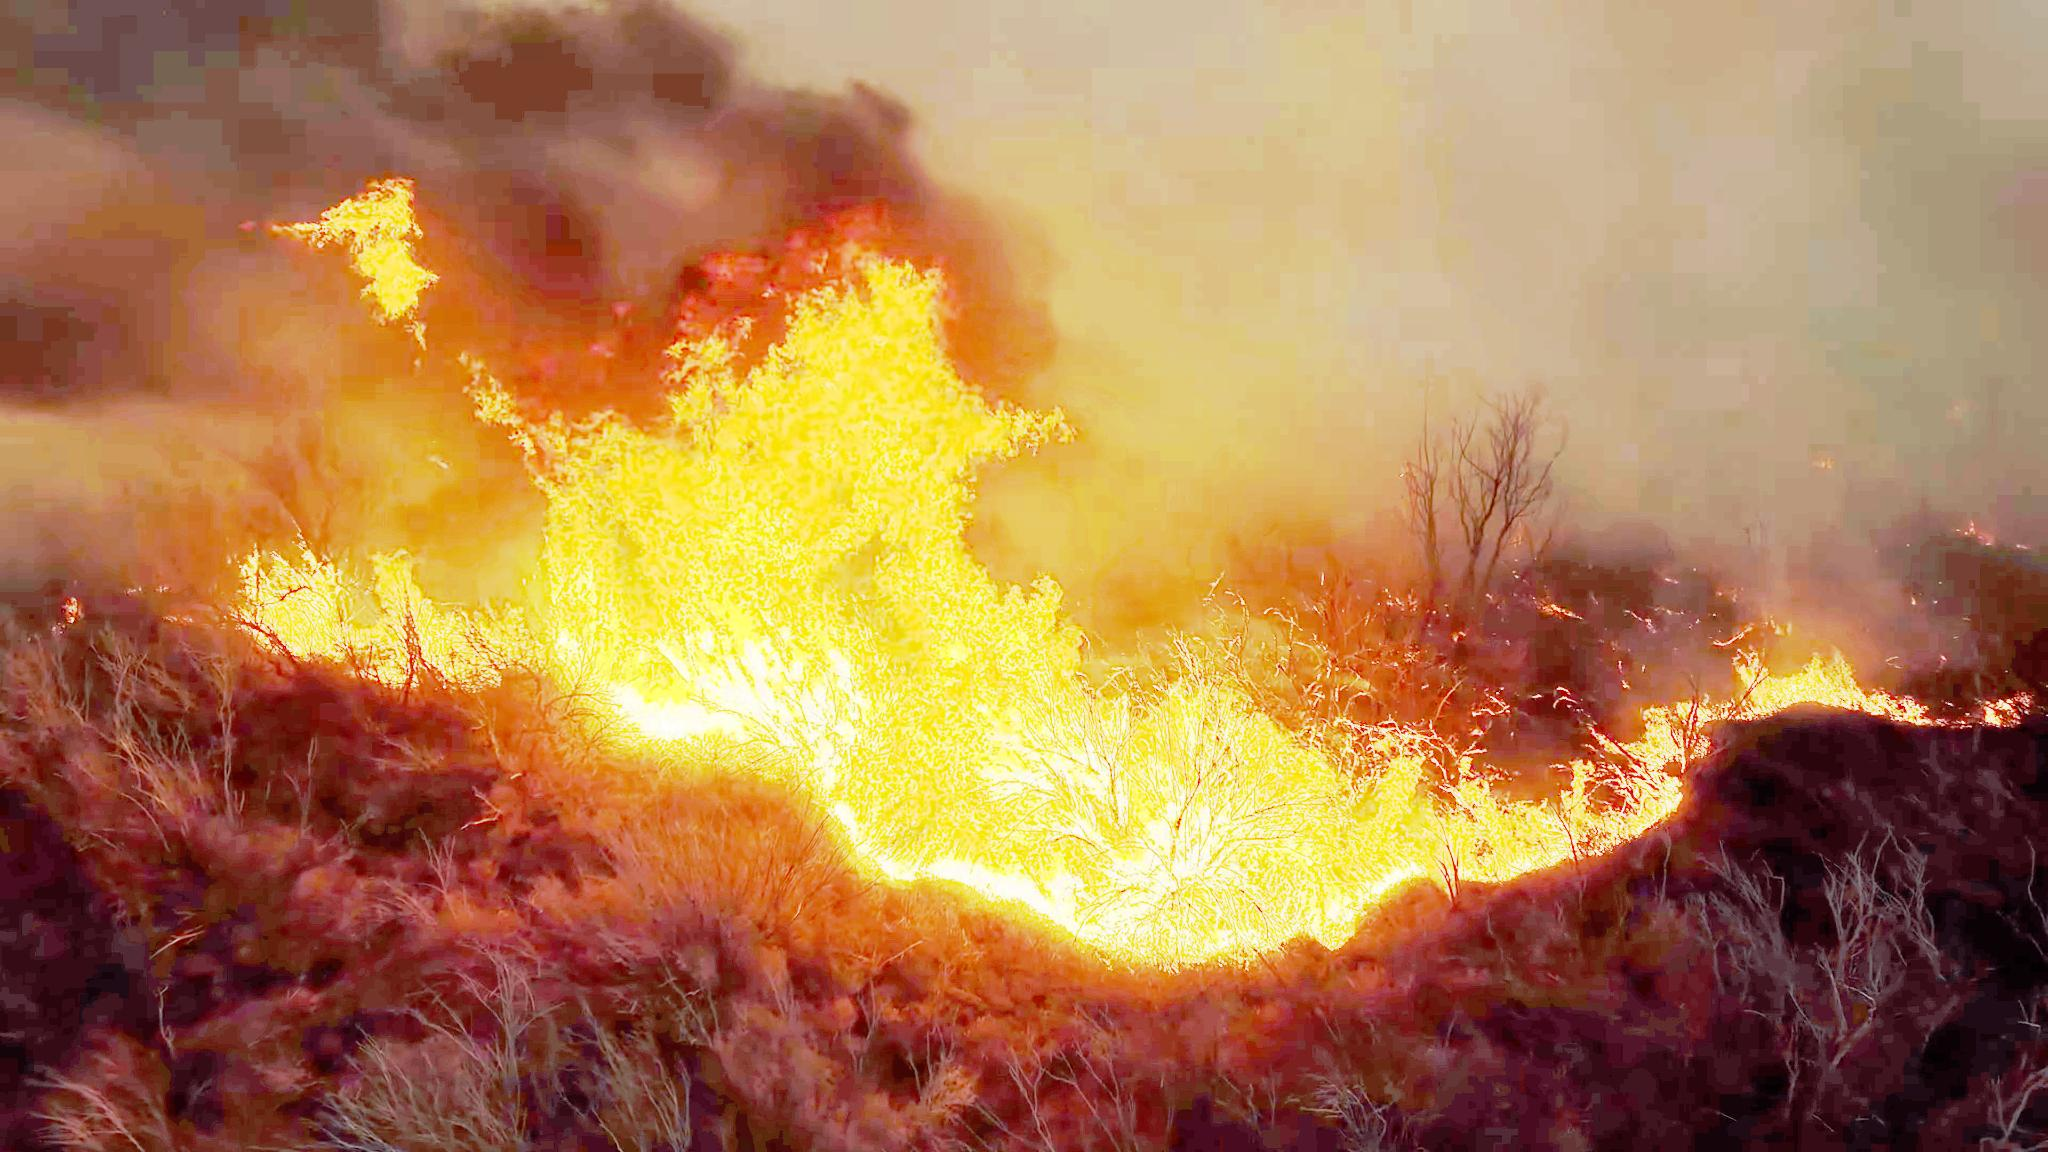fire: (561, 243, 959, 778), (847, 582, 1348, 934), (1348, 729, 1658, 909), (222, 535, 550, 698), (304, 174, 432, 314), (1712, 671, 1910, 722)
